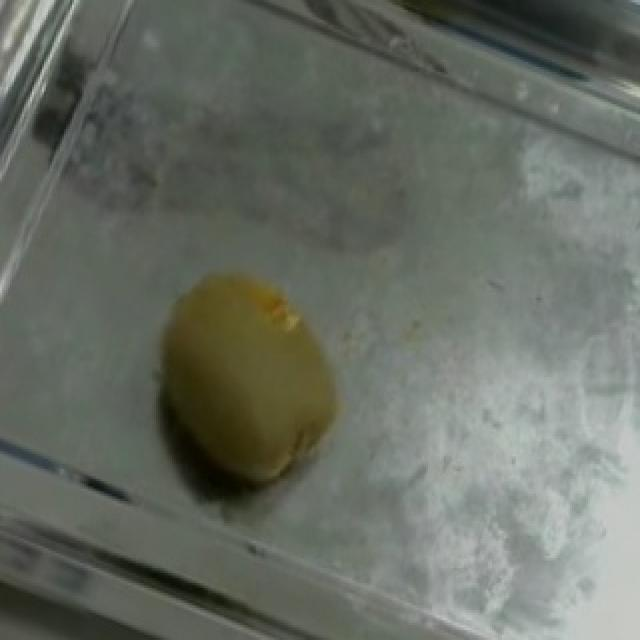Fruit: (112, 234, 390, 534)
